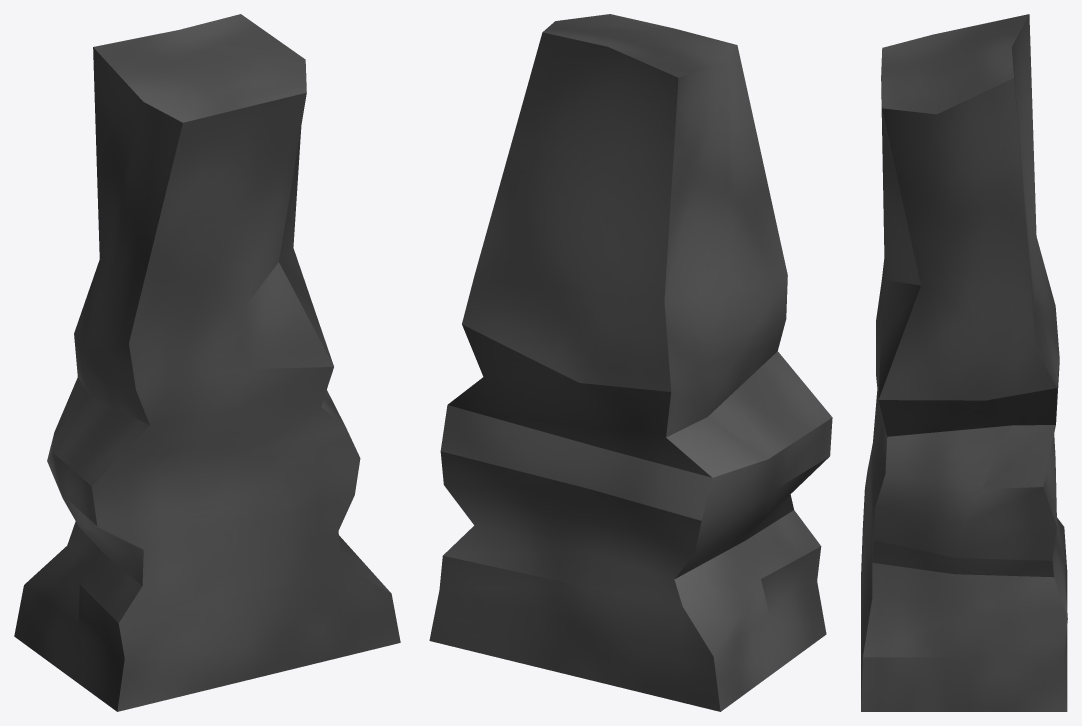
Rendered from GAMEJAMPUFFER - LongStone 4.fbx.
3 renders of one model, left to right at view 1: azimuth 30°, elevation 25°; view 2: azimuth 150°, elevation 25°; view 3: azimuth 270°, elevation 25°, orthographic. The views are drawn at different scales.
Parts seen in each view (by area): view 1: Cube.003; view 2: Cube.003; view 3: Cube.003.
Part boxes in pixels (x1=…): Cube.003: x1=14, y1=14, x2=400, y2=711; Cube.003: x1=429, y1=14, x2=832, y2=711; Cube.003: x1=861, y1=14, x2=1067, y2=711.
Bounding box in the file's own units: 157 × 297 × 93.86.
1 material, 1 textured.
